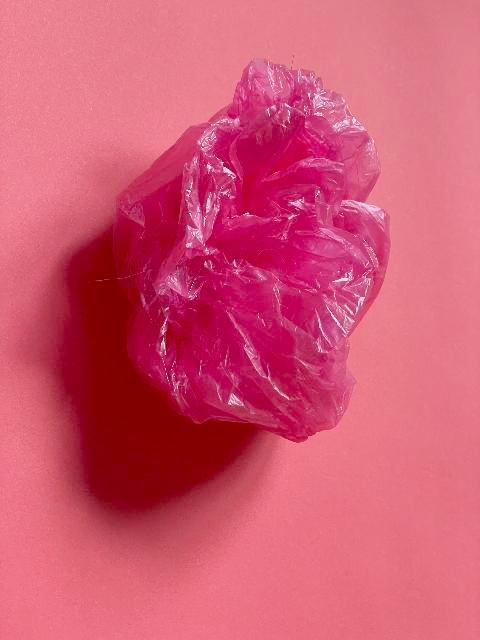plasticbag: (111, 51, 393, 447)
